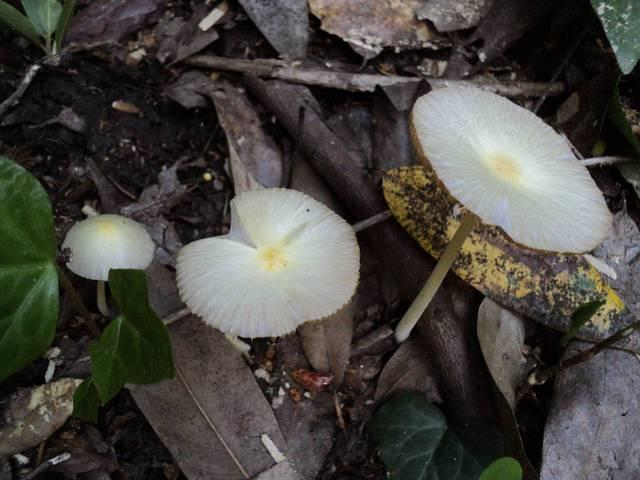edible_mushroom: (408, 81, 614, 255), (174, 185, 361, 339), (60, 209, 155, 316)
